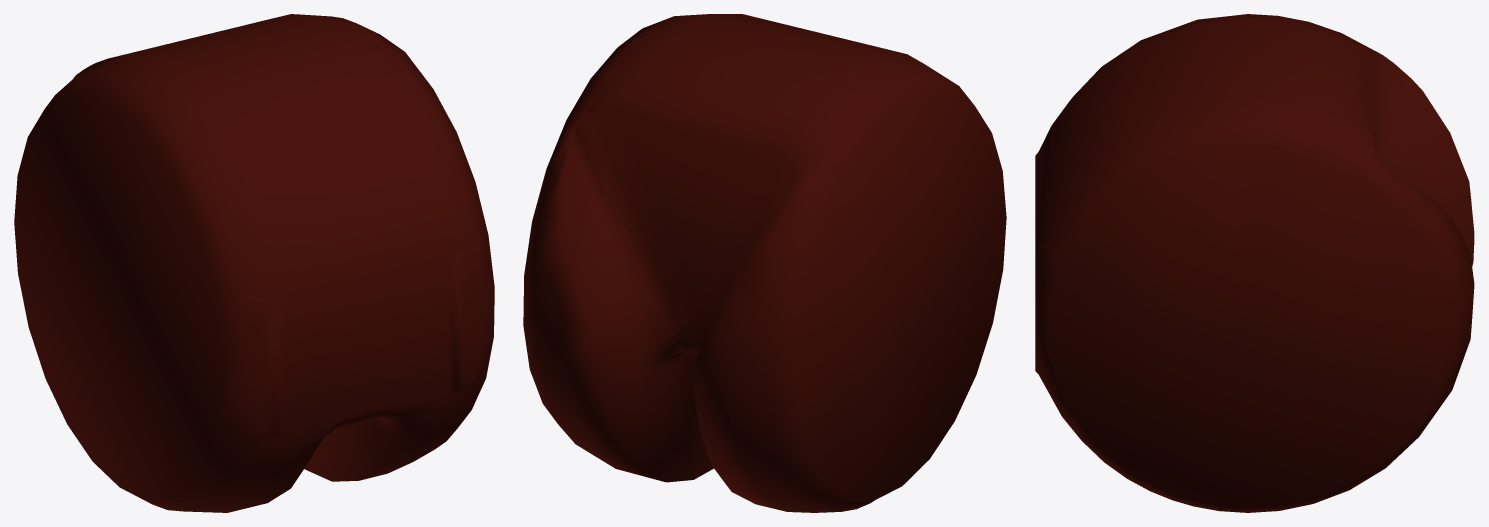
The model's file is knuckle.obj.
The picture shows the model from 3 angles, left to right: view 1: azimuth 30°, elevation 25°; view 2: azimuth 150°, elevation 25°; view 3: azimuth 270°, elevation 25°; orthographic projection. The views are drawn at different scales.
Bounding box in the file's own units: 12.01 × 18 × 17.5.
